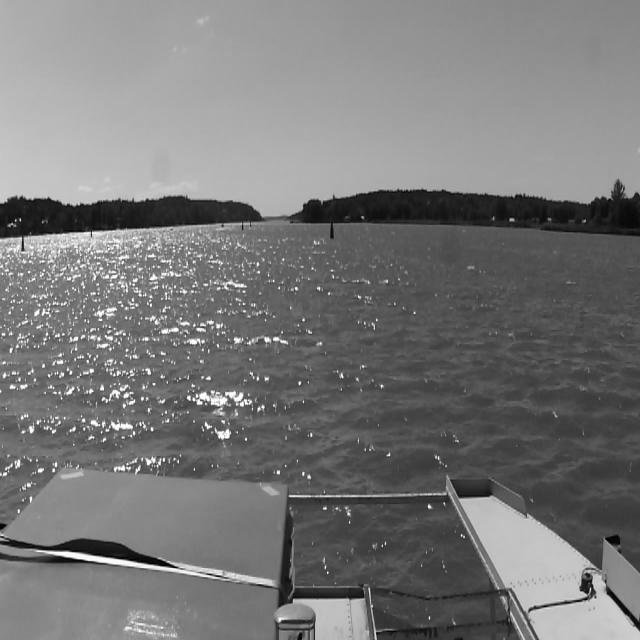buoy: (241, 215, 245, 232), (331, 219, 334, 240), (90, 223, 94, 237), (22, 233, 24, 250), (249, 217, 251, 229)
ship: (219, 220, 225, 230)
